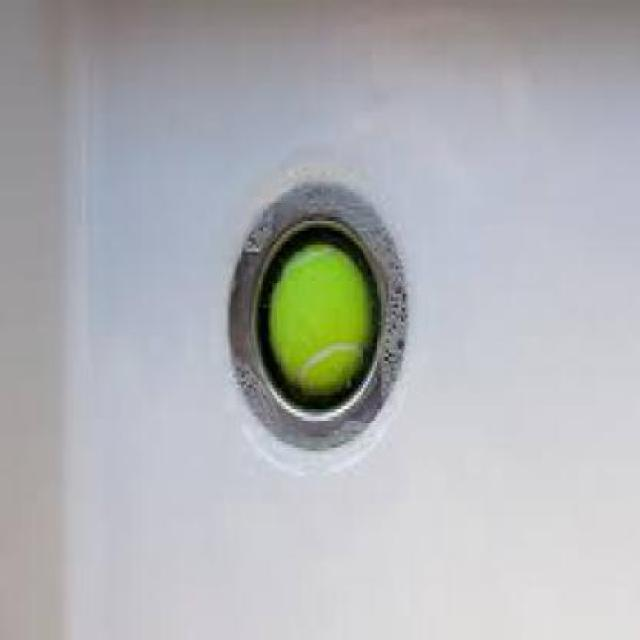Tennis_Ball: (272, 243, 368, 391)
